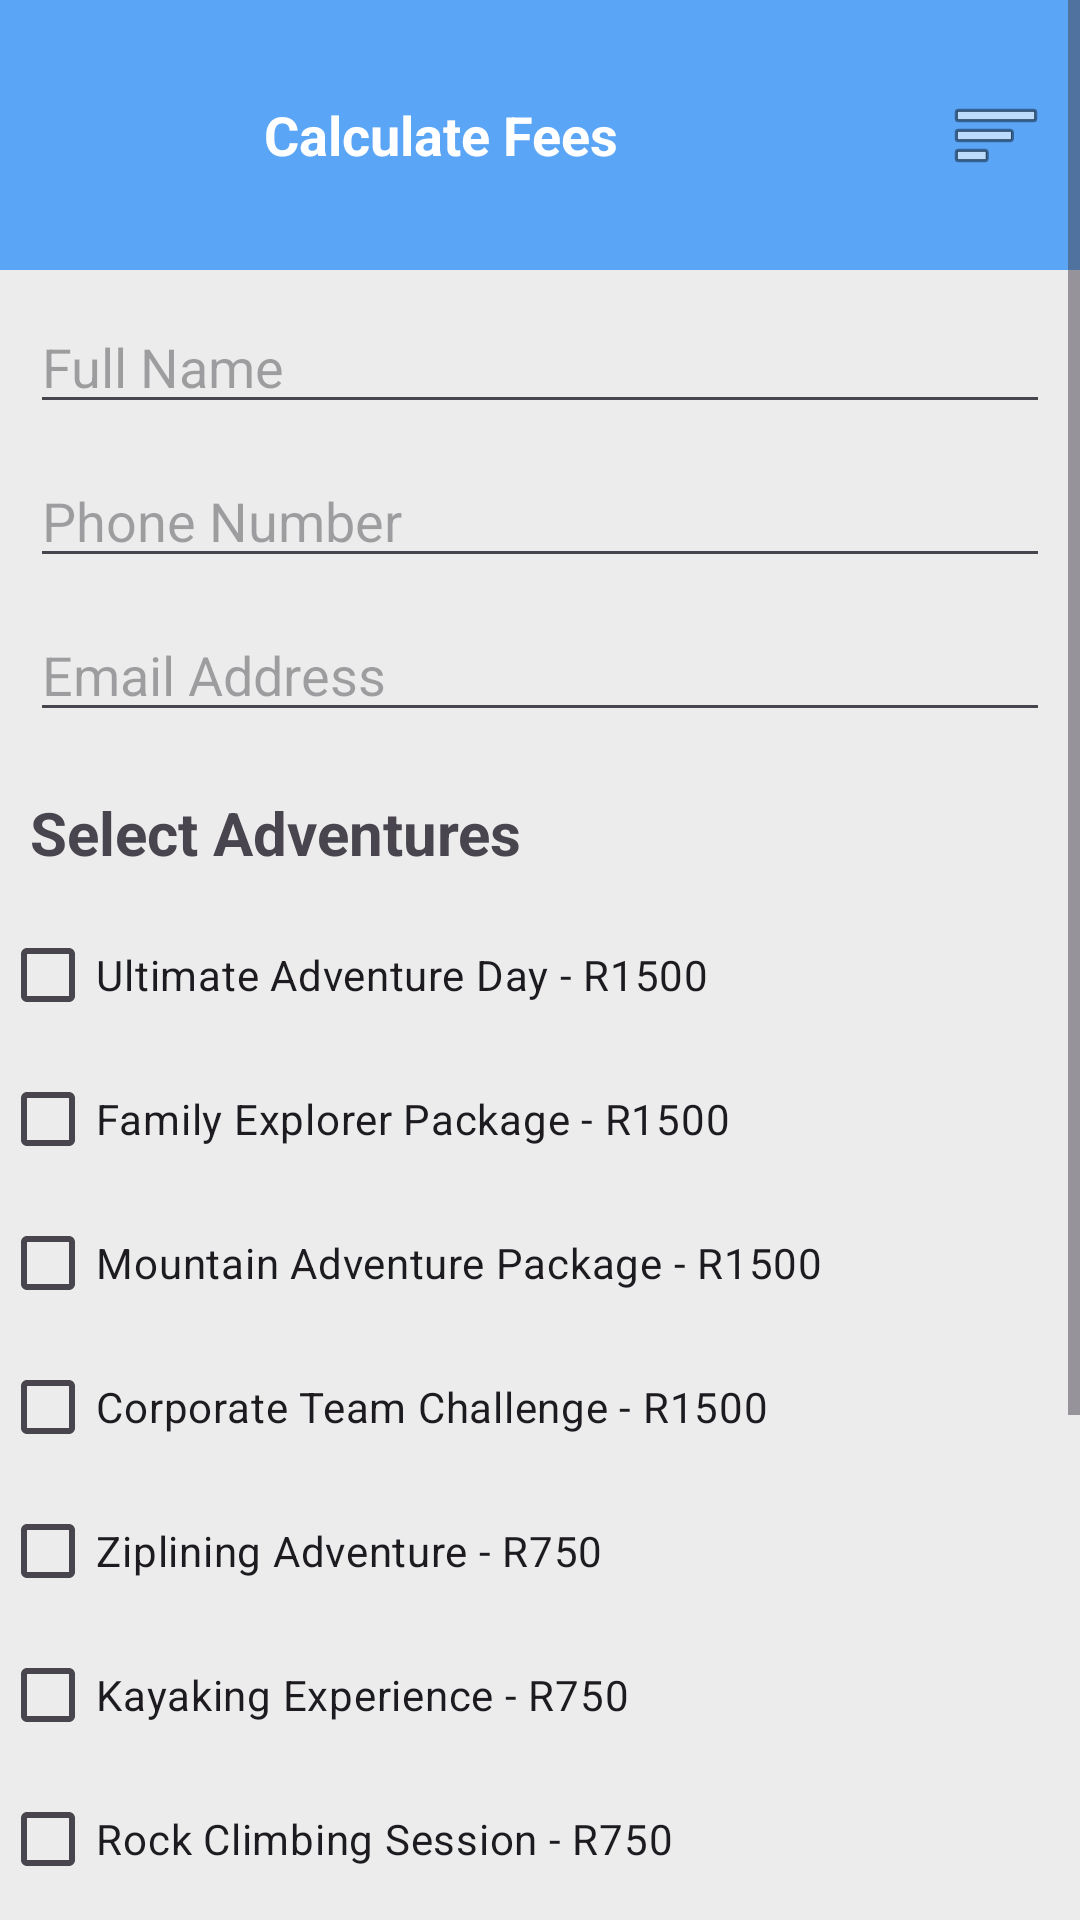

Icon bounding boxes for this 1080×1920 phone screenshot, format (x1, y1, x2, y2):
sort by size: (955, 109, 1037, 162)
